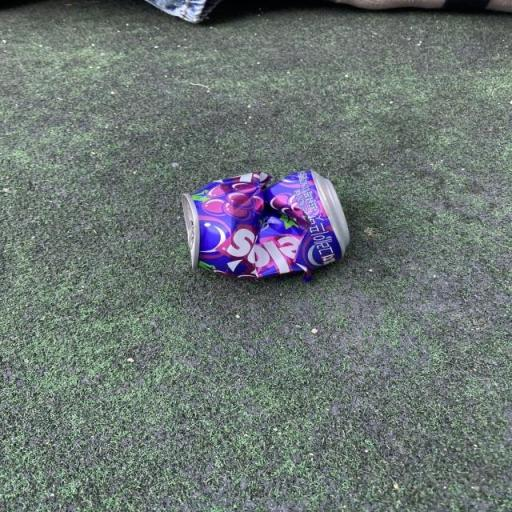metal: (104, 136, 408, 330)
